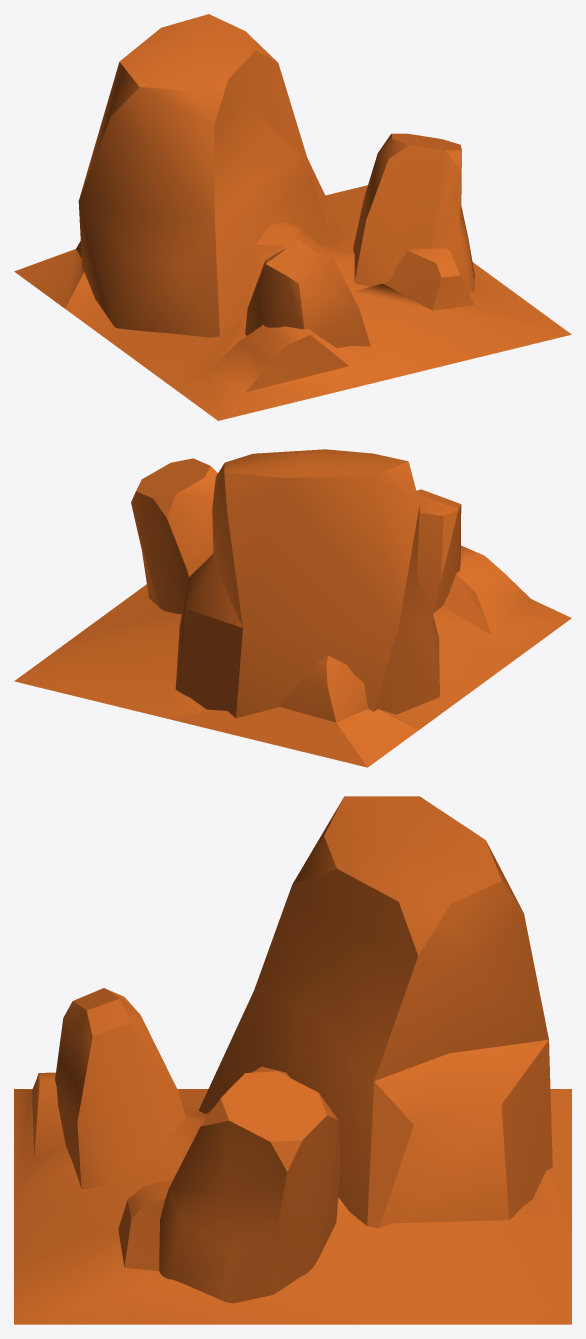
Rendered from OBJ_SmallRock_09.FBX.
The picture shows the model from 3 angles, top to bottom: view 1: azimuth 30°, elevation 25°; view 2: azimuth 150°, elevation 25°; view 3: azimuth 270°, elevation 25°; orthographic projection. The views are drawn at different scales.
Visible parts, largest first — view 1: OBJ_SmallRock_09; view 2: OBJ_SmallRock_09; view 3: OBJ_SmallRock_09.
Part boxes in pixels (x1,y1,x2,y2): OBJ_SmallRock_09: (14,14,571,420); OBJ_SmallRock_09: (14,449,571,767); OBJ_SmallRock_09: (14,796,571,1324).
Size of the model in its own units: 6 by 4 by 6.
